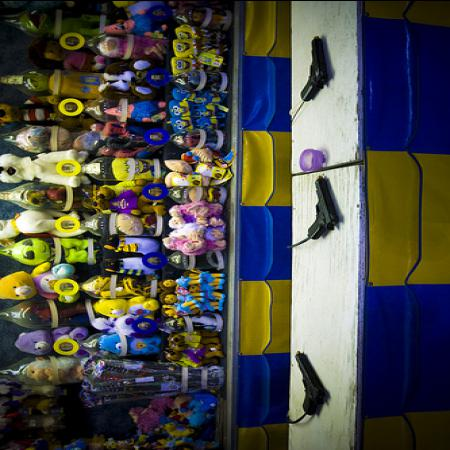Pistol: (299, 170, 342, 238), (292, 350, 331, 416), (296, 34, 331, 100)
